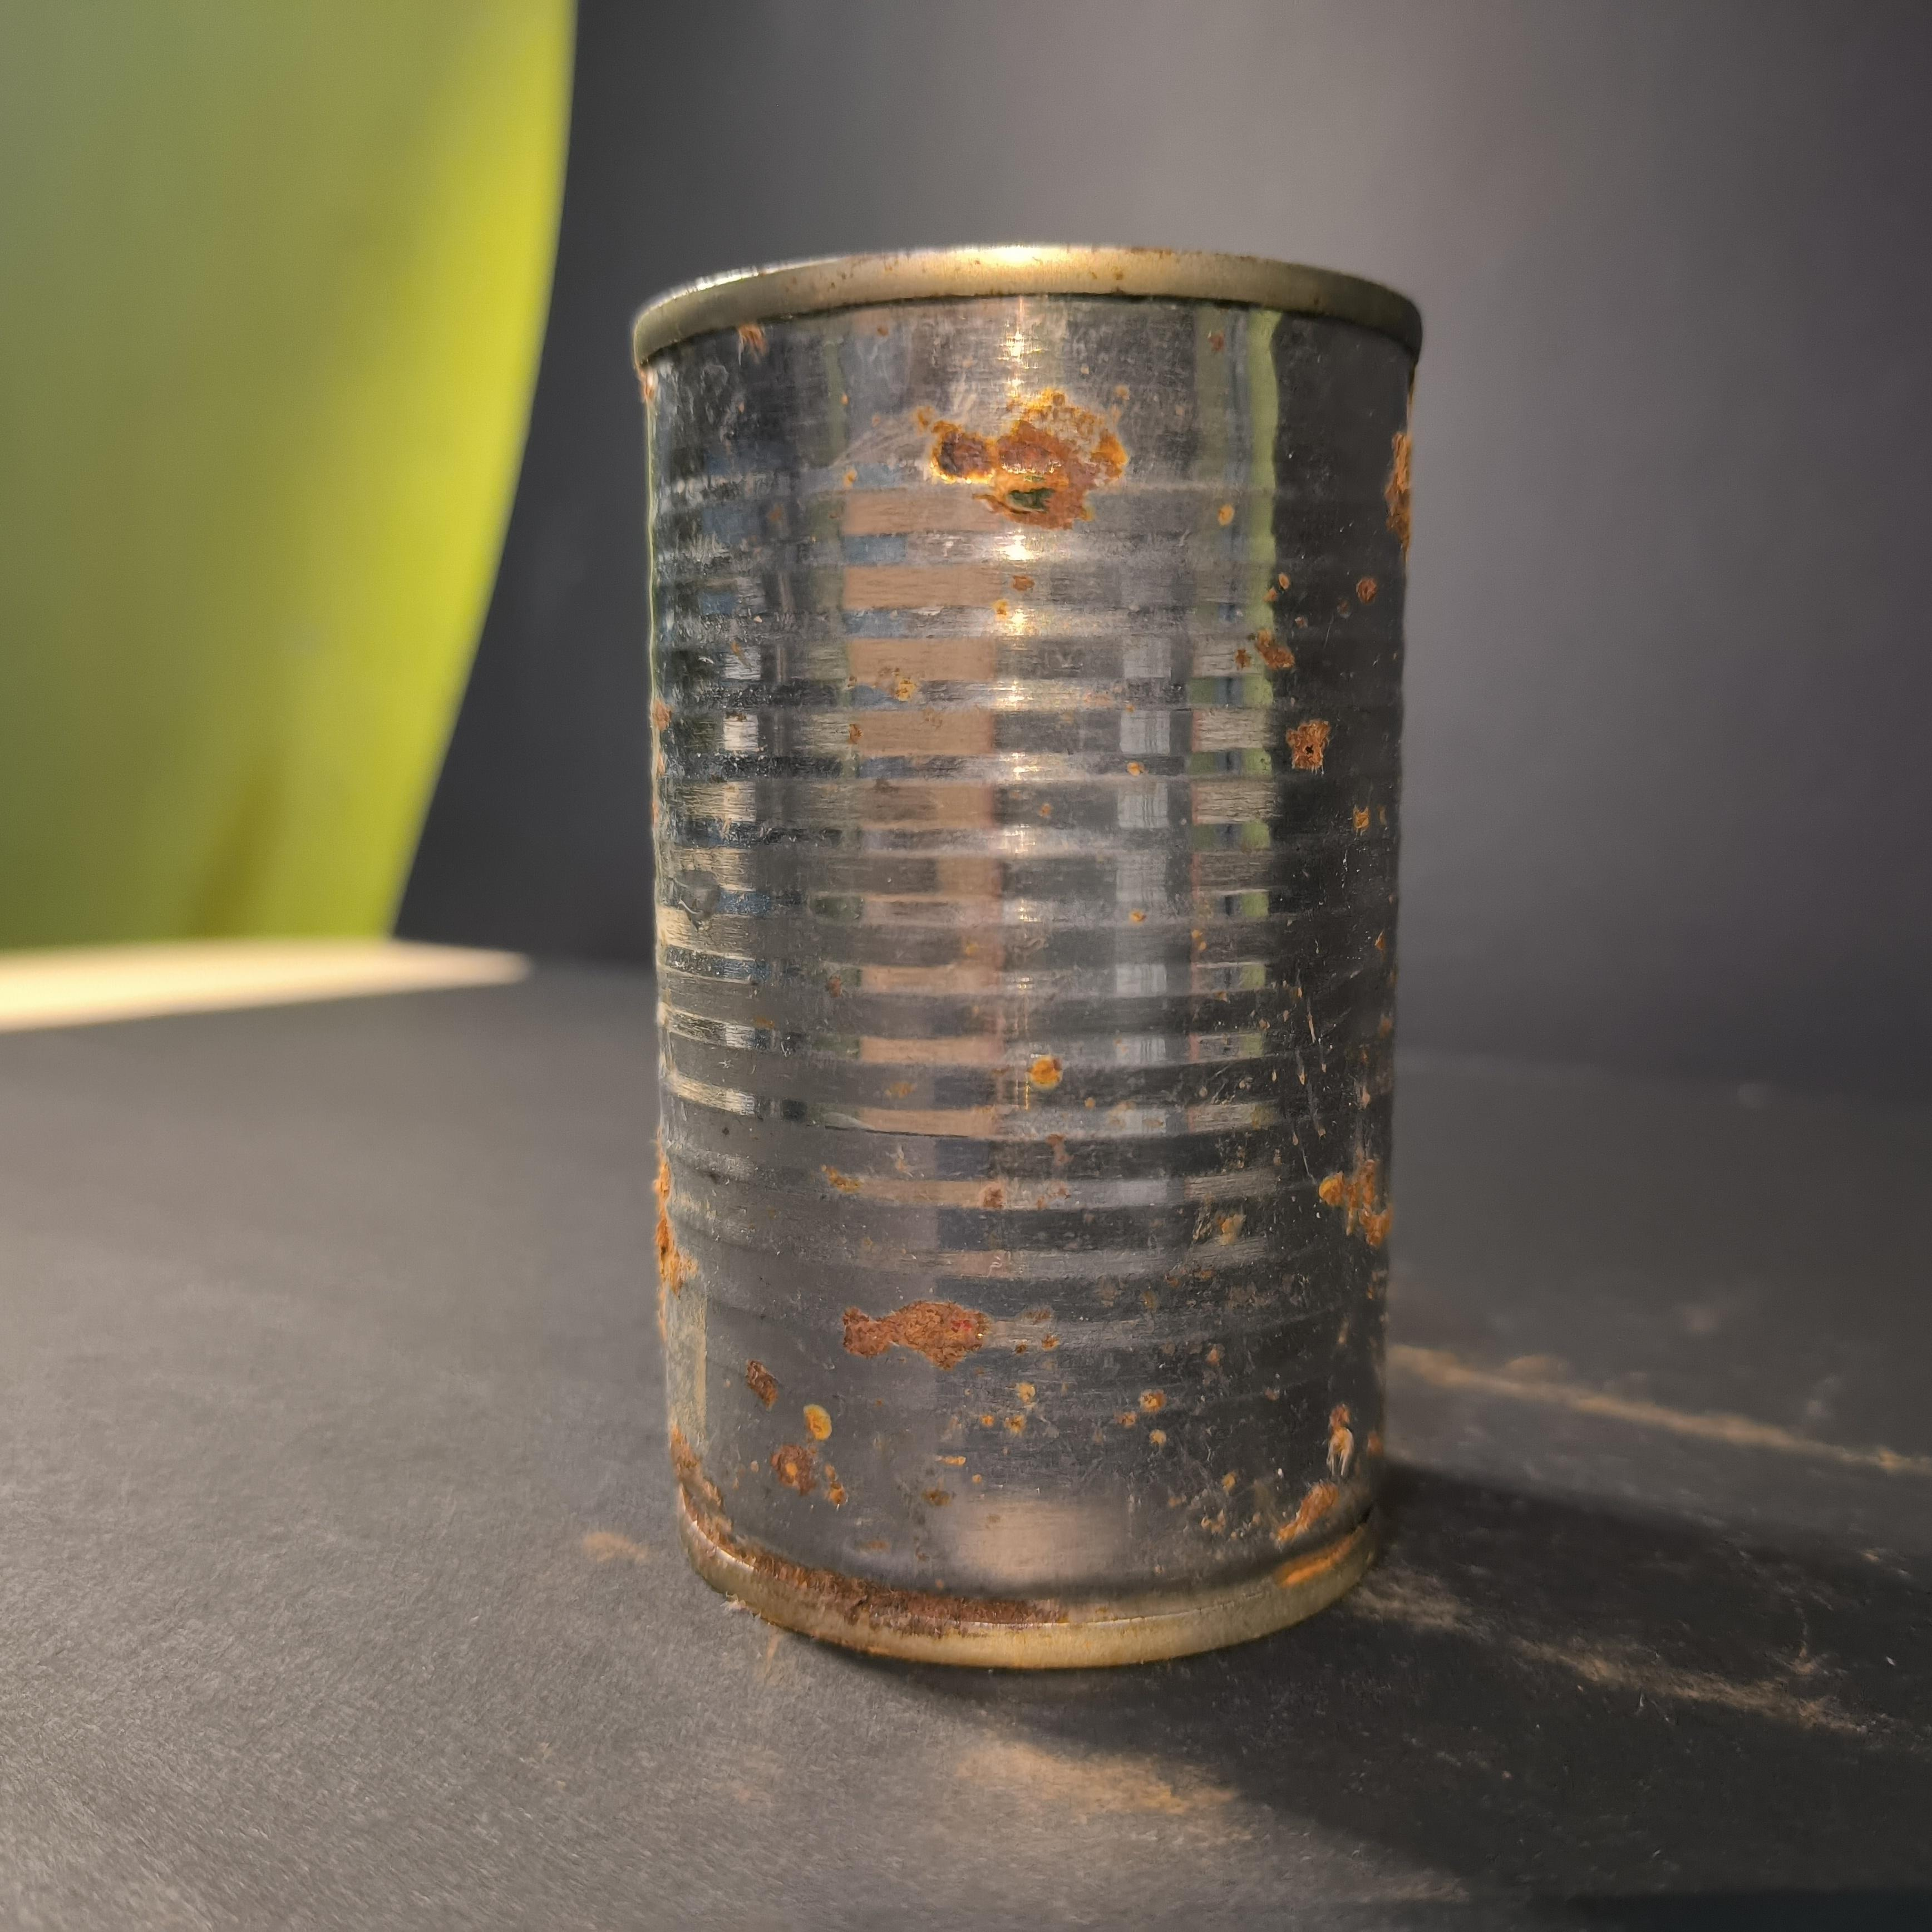Rusted: (612, 219, 1435, 1686)
